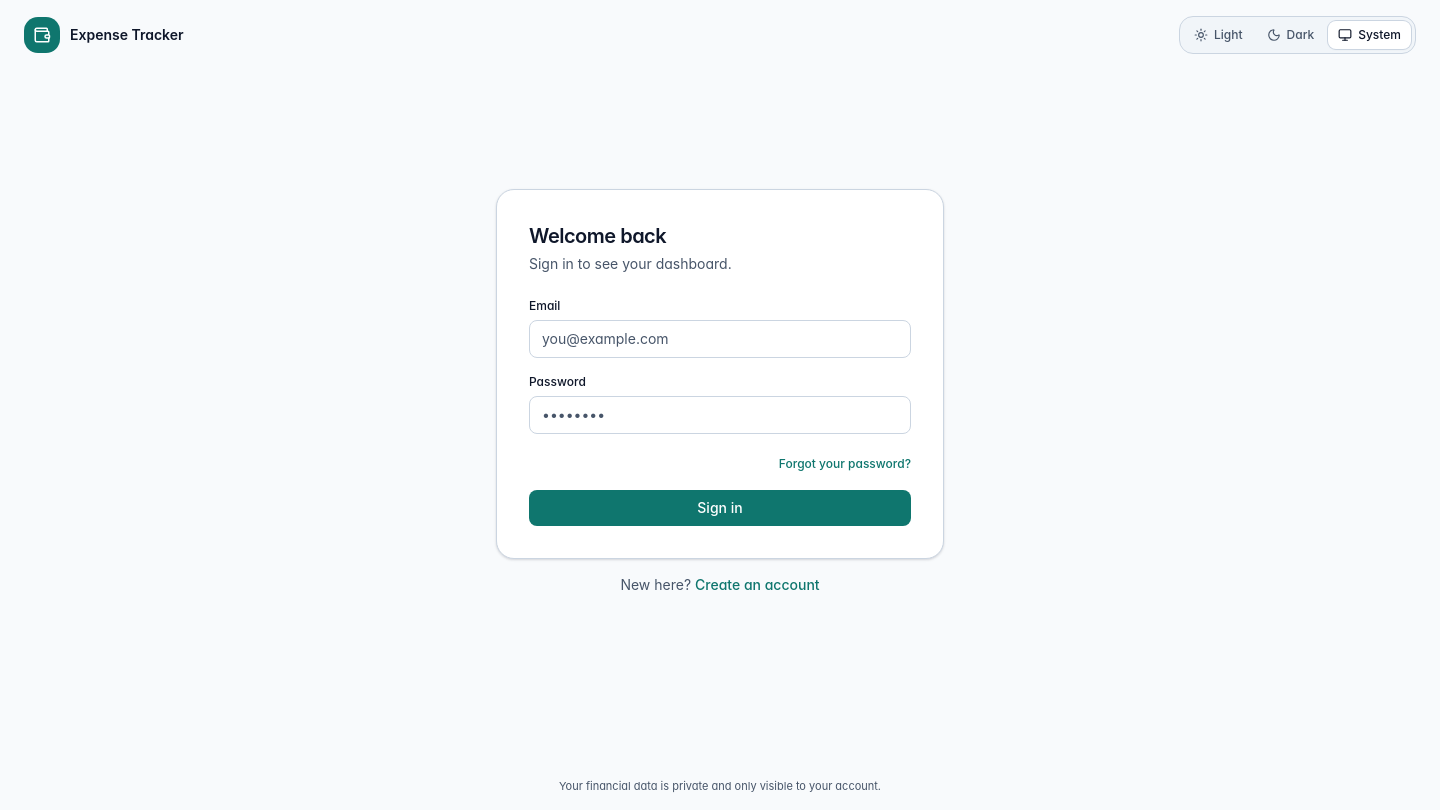
Test: Login › rejects an invalid email format
This screenshot has width=1440, height=810.
Type "not-an-email" into the field labelled "Email" at point(720, 339), box 529,320 -> 911,358
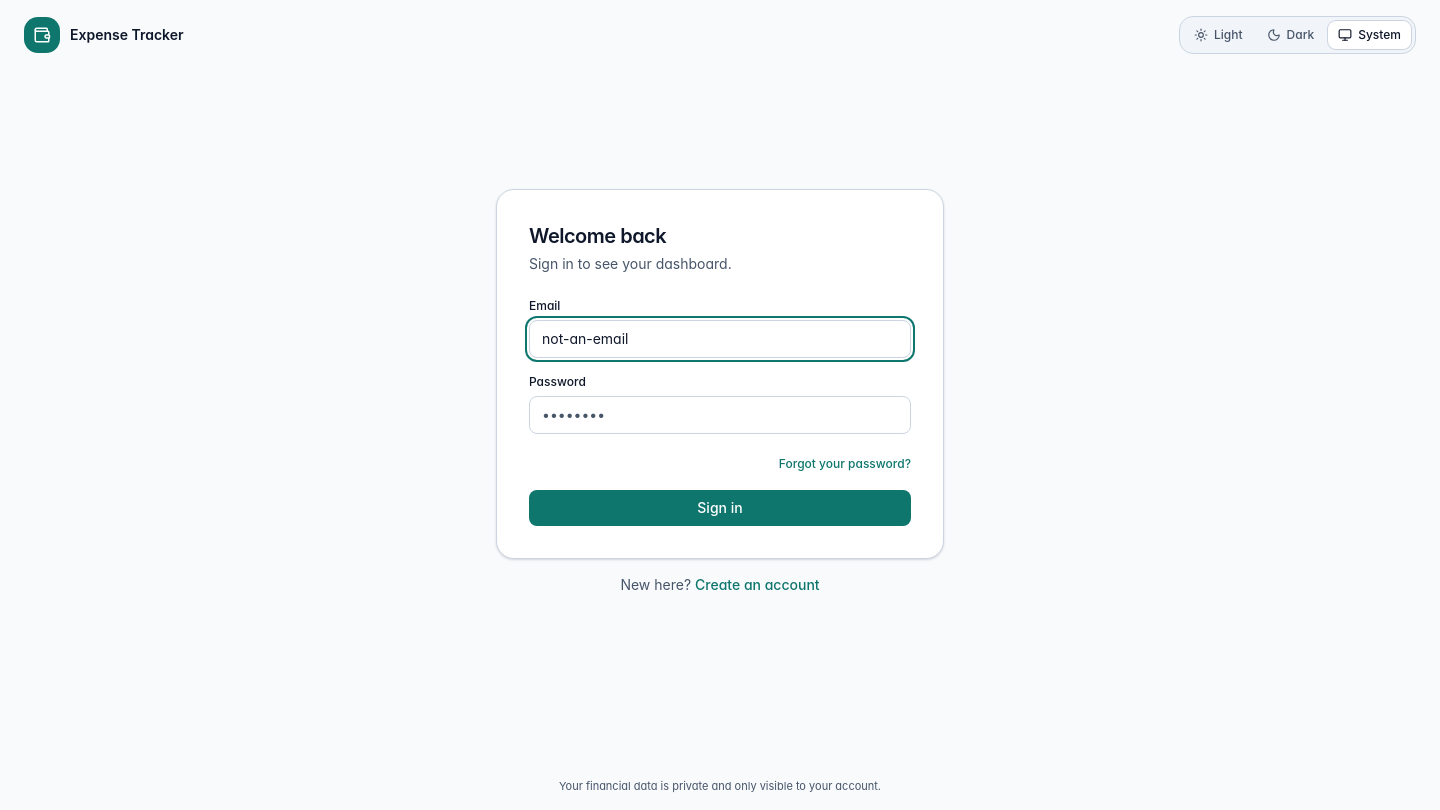
Type "secret123" into the password field labelled "Password" at point(720, 415), box 529,396 -> 911,434
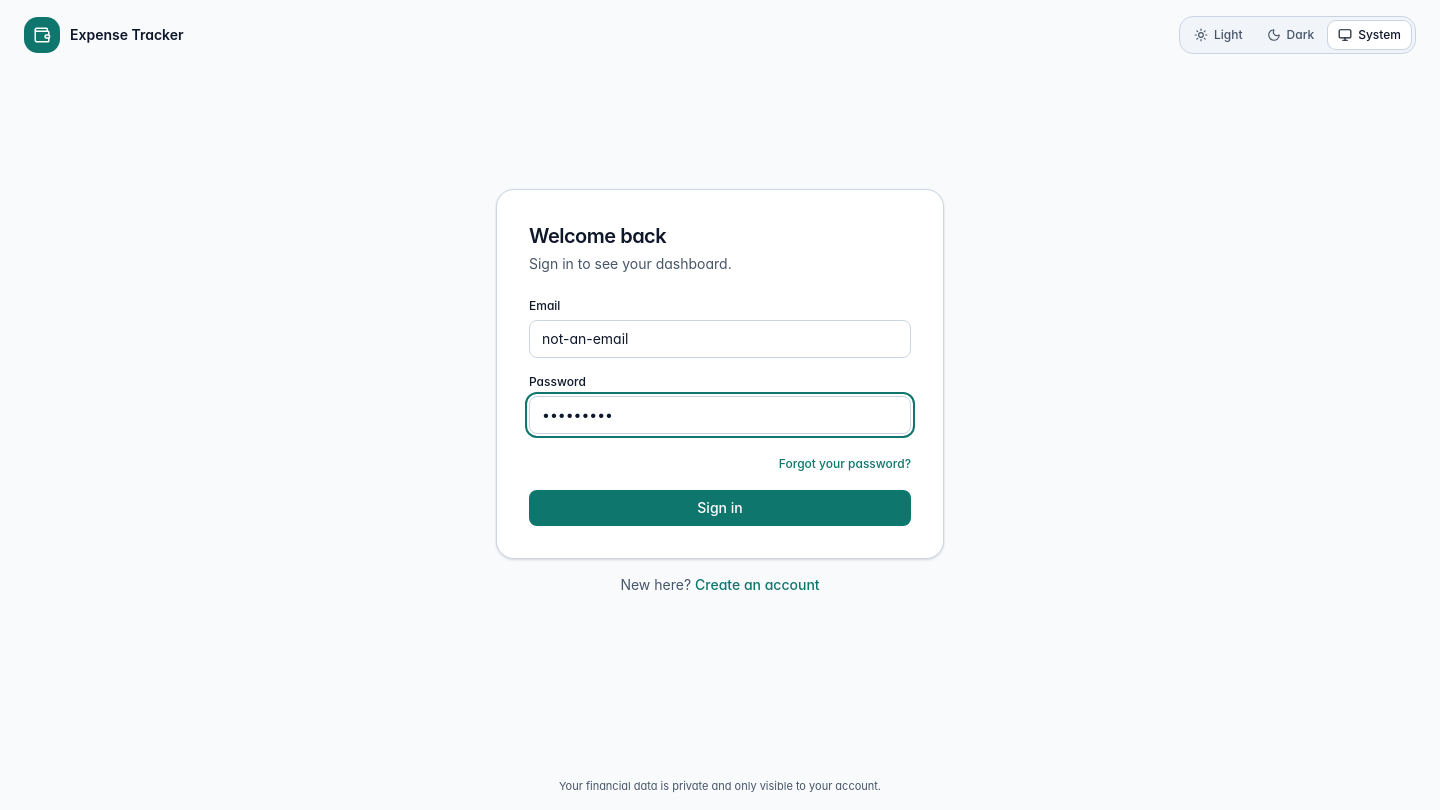
Click the button "Sign in" at point(720, 508), box 529,490 -> 911,526
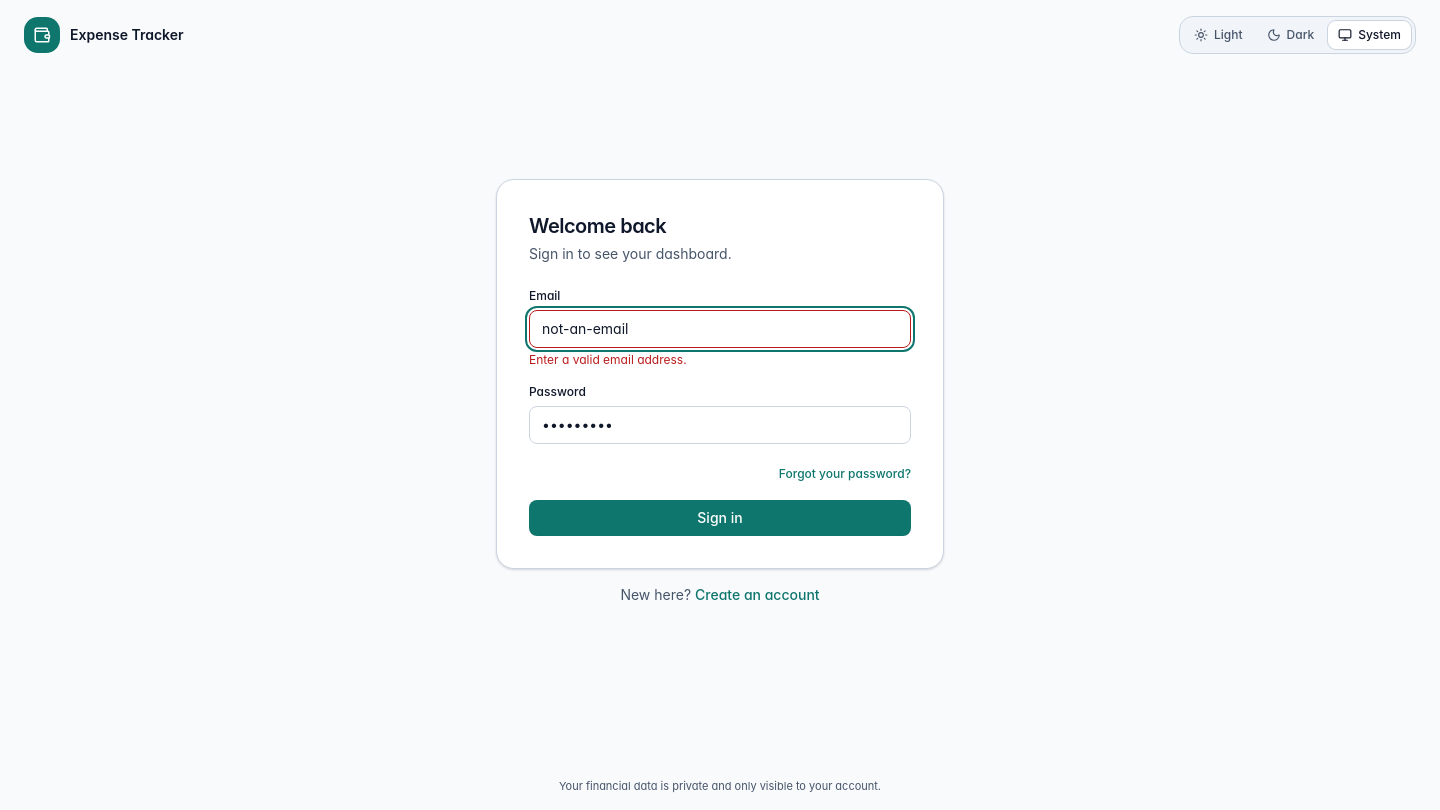
Now the text "Enter a valid email address." is shown, box 529,352 -> 687,367
